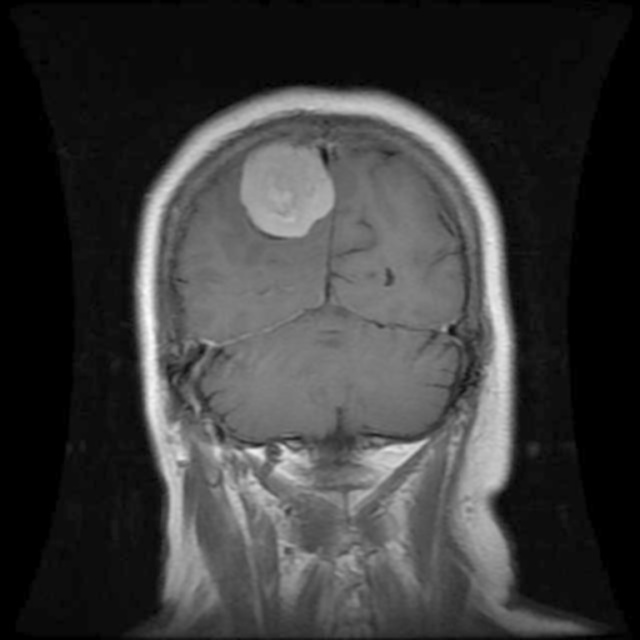meningioma tumor: (214, 125, 348, 245)
